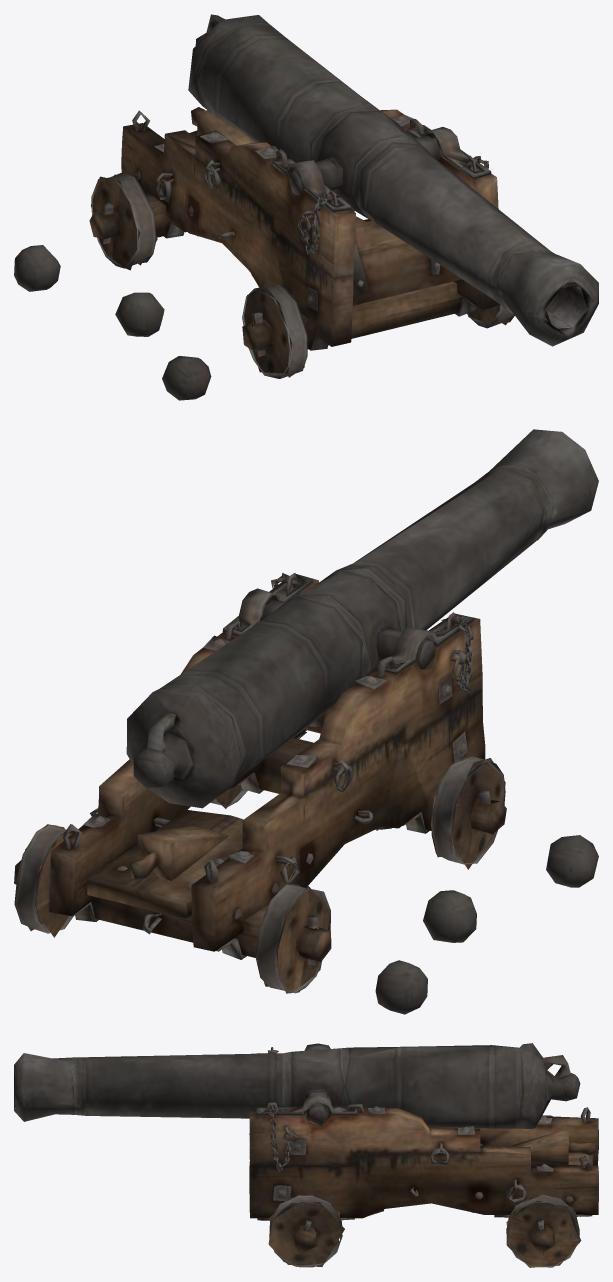
The model's file is cannon.glb.
The picture shows the model from 3 angles, top to bottom: view 1: azimuth 30°, elevation 25°; view 2: azimuth 150°, elevation 25°; view 3: azimuth 270°, elevation 25°; orthographic projection. The views are drawn at different scales.
Visible parts, largest first — view 1: cannon_01_barrel, cannon_01_frame, cannon_01_wheel_02, cannon_01_wheel_01, cannon_01_ball_01, cannon_01_ball_03, cannon_01_ball_02, cannon_01_pusherblock, cannon_01_wheel_03; view 2: cannon_01_frame, cannon_01_barrel, cannon_01_wheel_01, cannon_01_wheel_02, cannon_01_wheel_04, cannon_01_pusherblock, cannon_01_ball_02, cannon_01_ball_03, cannon_01_ball_01; view 3: cannon_01_barrel, cannon_01_frame, cannon_01_wheel_03, cannon_01_wheel_04, cannon_01_pusherblock.
Boxes of the visible parts, box(x1,y1,x2,y2) form: cannon_01_barrel: box(188, 14, 598, 346); cannon_01_frame: box(89, 109, 499, 356); cannon_01_wheel_02: box(91, 172, 157, 270); cannon_01_wheel_01: box(242, 284, 307, 378); cannon_01_ball_01: box(162, 356, 211, 400); cannon_01_ball_03: box(14, 245, 60, 291); cannon_01_ball_02: box(115, 292, 164, 336); cannon_01_pusherblock: box(191, 107, 255, 145); cannon_01_wheel_03: box(467, 305, 514, 328); cannon_01_frame: box(14, 573, 506, 965); cannon_01_barrel: box(126, 429, 598, 808); cannon_01_wheel_01: box(431, 752, 505, 869); cannon_01_wheel_02: box(255, 882, 330, 993); cannon_01_wheel_04: box(14, 824, 74, 937); cannon_01_pusherblock: box(129, 824, 229, 880); cannon_01_ball_02: box(423, 890, 476, 942); cannon_01_ball_03: box(375, 960, 427, 1014); cannon_01_ball_01: box(546, 835, 598, 887); cannon_01_barrel: box(14, 1043, 580, 1129); cannon_01_frame: box(249, 1043, 598, 1253); cannon_01_wheel_03: box(268, 1194, 344, 1267); cannon_01_wheel_04: box(506, 1193, 581, 1267); cannon_01_pusherblock: box(510, 1128, 595, 1164).
Bounding box in the file's own units: 1.23 × 0.7721 × 2.3.
1 material, 1 textured.
